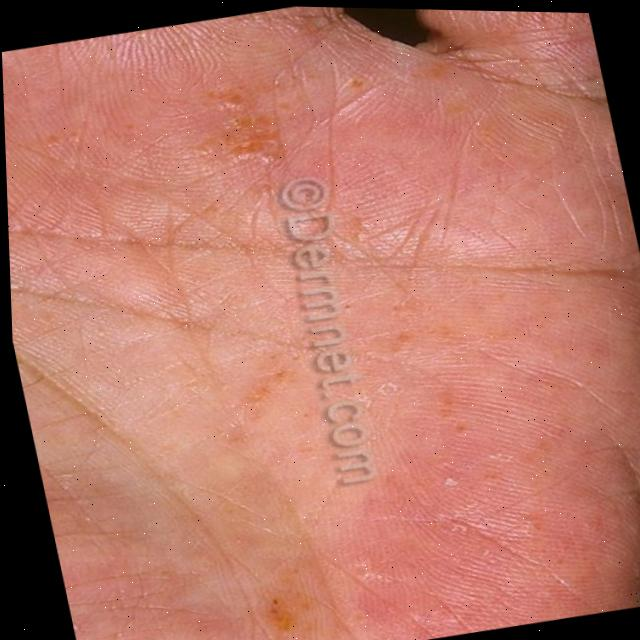Eczema: (196, 321, 349, 425), (229, 82, 315, 194), (236, 578, 323, 640)
